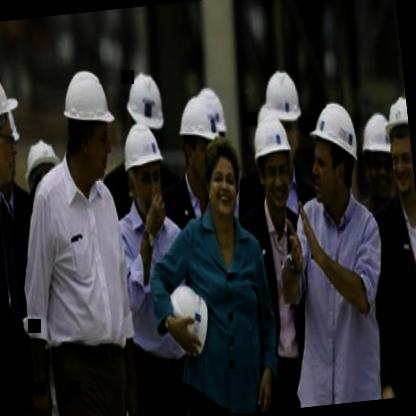head: (196, 138, 244, 224)
helmet: (57, 63, 120, 183), (303, 96, 363, 212), (246, 103, 298, 212), (119, 122, 169, 224), (260, 65, 306, 165), (176, 96, 222, 192), (356, 110, 398, 204), (382, 96, 416, 197), (121, 70, 166, 142), (0, 66, 25, 192), (20, 136, 62, 204), (192, 83, 228, 151)
